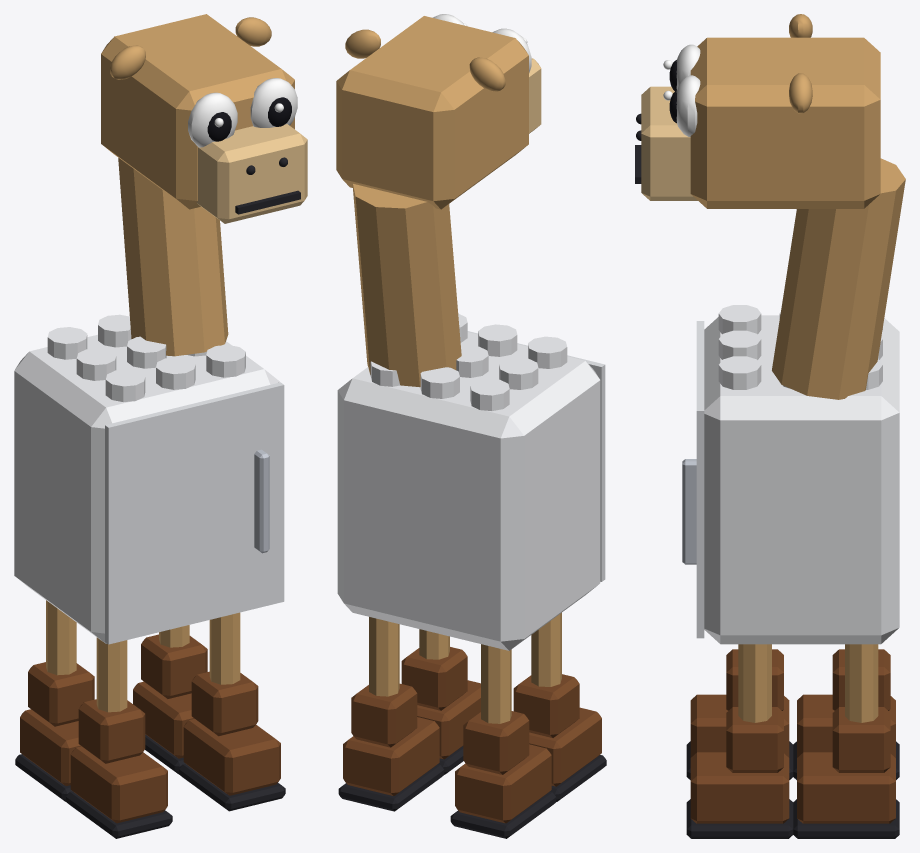
Rendered from Frigo.fbx.
The picture shows the model from 3 angles, left to right: view 1: azimuth 30°, elevation 25°; view 2: azimuth 150°, elevation 25°; view 3: azimuth 270°, elevation 25°; orthographic projection. The views are drawn at different scales.
Visible parts, largest first — view 1: Frigo_Porta, Frigo_Geladeira, Frigo_Cabeca, Frigo_Pescoco, Frigo_Focinho, Frigo_Pinos, Frigo_Bota, Frigo_Bota_2, Frigo_Cano_Bota_2, Frigo_Cano_Bota, Frigo_Cano_Bota_4, Frigo_Cano_Bota_3 (+16 smaller); view 2: Frigo_Geladeira, Frigo_Cabeca, Frigo_Pescoco, Frigo_Pinos, Frigo_Bota_4, Frigo_Bota_3, Frigo_Cano_Bota_3, Frigo_Cano_Bota_4, Frigo_Cano_Bota, Frigo_Cano_Bota_2, Frigo_Bota, Frigo_Perna_3 (+11 smaller); view 3: Frigo_Geladeira, Frigo_Cabeca, Frigo_Pescoco, Frigo_Bota_2, Frigo_Bota_4, Frigo_Focinho, Frigo_Pinos, Frigo_Cano_Bota_4, Frigo_Cano_Bota_2, Frigo_Porta, Frigo_Perna_2, Frigo_Perna_4 (+10 smaller).
Boxes of the visible parts, x1,y1,x2,y2 form: Frigo_Porta: (105, 382, 284, 644); Frigo_Geladeira: (14, 334, 279, 643); Frigo_Cabeca: (101, 14, 294, 209); Frigo_Pescoco: (118, 158, 228, 356); Frigo_Focinho: (196, 124, 307, 223); Frigo_Pinos: (47, 314, 245, 402); Frigo_Bota: (70, 746, 167, 823); Frigo_Bota_2: (183, 719, 280, 795); Frigo_Cano_Bota_2: (191, 671, 258, 736); Frigo_Cano_Bota: (78, 699, 145, 763); Frigo_Cano_Bota_4: (141, 634, 207, 698); Frigo_Cano_Bota_3: (28, 662, 94, 726); Frigo_Geladeira: (337, 332, 600, 650); Frigo_Cabeca: (336, 16, 528, 209); Frigo_Pescoco: (352, 184, 461, 387); Frigo_Pinos: (370, 313, 567, 410); Frigo_Bota_4: (343, 717, 439, 795); Frigo_Bota_3: (455, 744, 551, 823); Frigo_Cano_Bota_3: (463, 711, 529, 774); Frigo_Cano_Bota_4: (351, 683, 417, 747); Frigo_Cano_Bota: (513, 674, 579, 737); Frigo_Cano_Bota_2: (401, 647, 467, 710); Frigo_Bota: (529, 707, 601, 786); Frigo_Perna_3: (481, 644, 511, 723); Frigo_Geladeira: (704, 315, 899, 644); Frigo_Cabeca: (690, 37, 880, 208); Frigo_Pescoco: (772, 158, 905, 399); Frigo_Bota_2: (690, 752, 789, 823); Frigo_Bota_4: (797, 752, 895, 823); Frigo_Focinho: (641, 86, 697, 200); Frigo_Pinos: (718, 305, 882, 389); Frigo_Cano_Bota_4: (832, 707, 890, 772); Frigo_Cano_Bota_2: (726, 707, 783, 772); Frigo_Porta: (696, 321, 704, 638); Frigo_Perna_2: (738, 644, 771, 722); Frigo_Perna_4: (845, 644, 878, 722).
Bounding box in the file's own units: 48.57 × 157 × 49.87.
